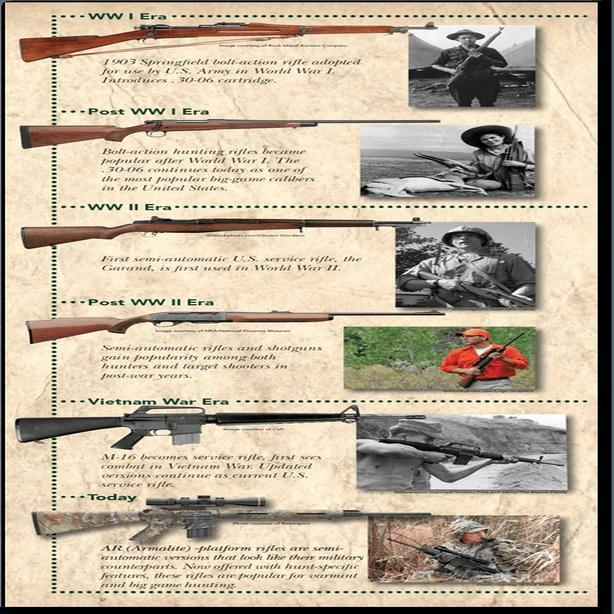Firearm: (10, 398, 430, 455), (28, 492, 432, 549), (18, 12, 443, 66), (22, 207, 433, 257), (13, 109, 454, 153), (17, 307, 449, 346), (377, 432, 571, 481), (428, 28, 522, 93), (417, 266, 535, 310), (388, 536, 501, 580)
